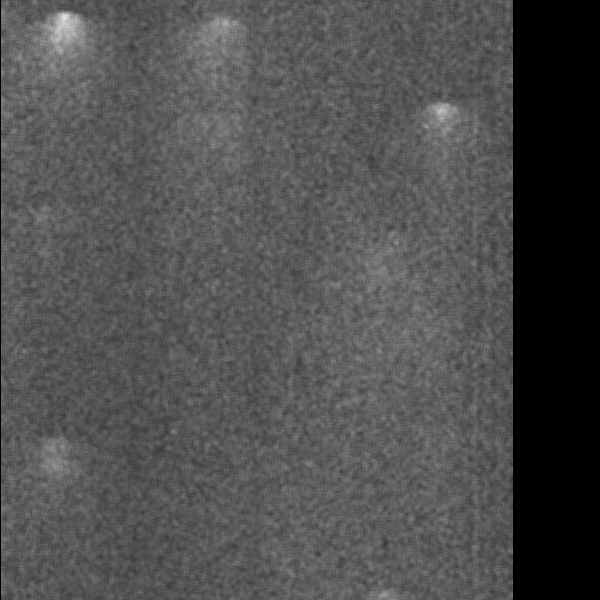spark: (43, 6, 84, 124), (34, 425, 73, 508), (416, 96, 465, 156), (196, 12, 249, 61)
